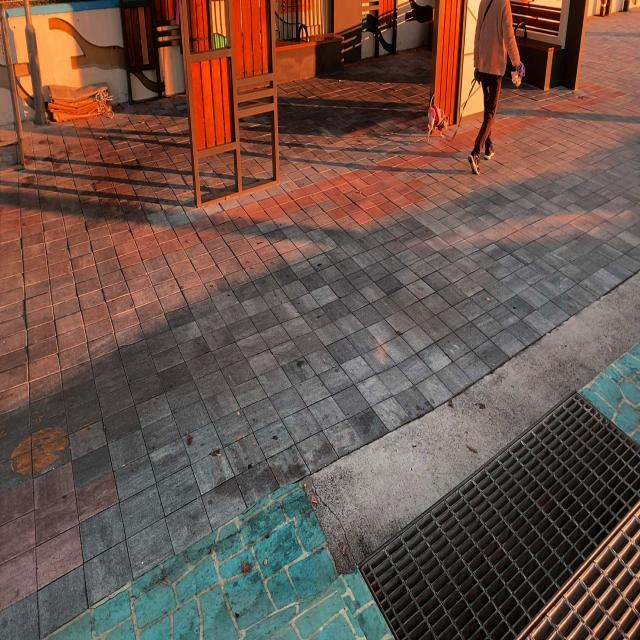Leashed_Dog: (427, 63, 495, 144)
